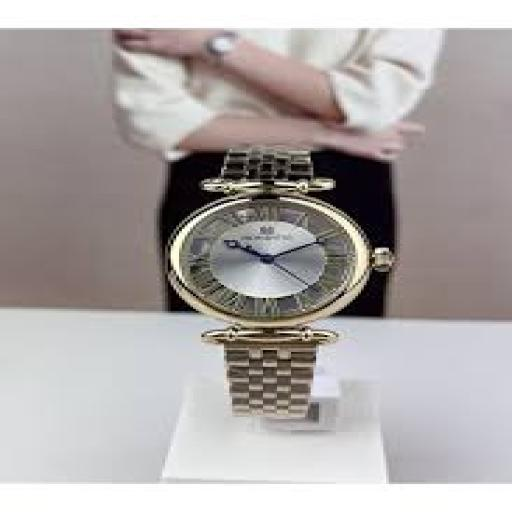KolSaati: (136, 127, 404, 440)
